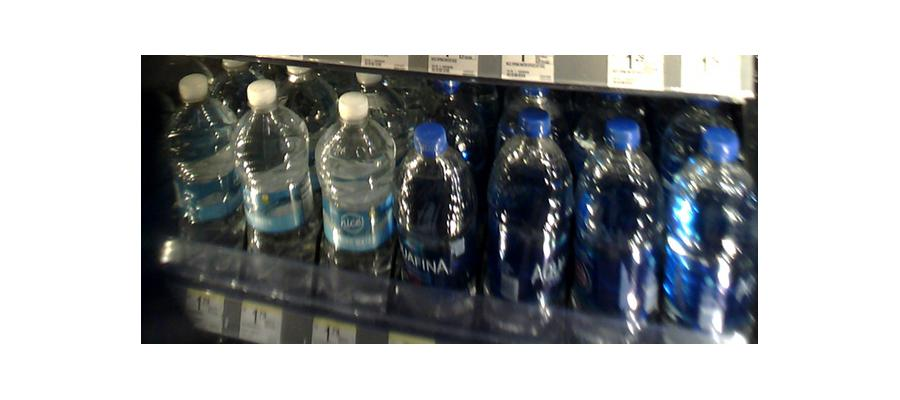bottle: (664, 120, 757, 350), (486, 94, 569, 344), (574, 121, 663, 347), (234, 80, 314, 301), (315, 95, 394, 314), (162, 71, 239, 286), (396, 119, 476, 324)
